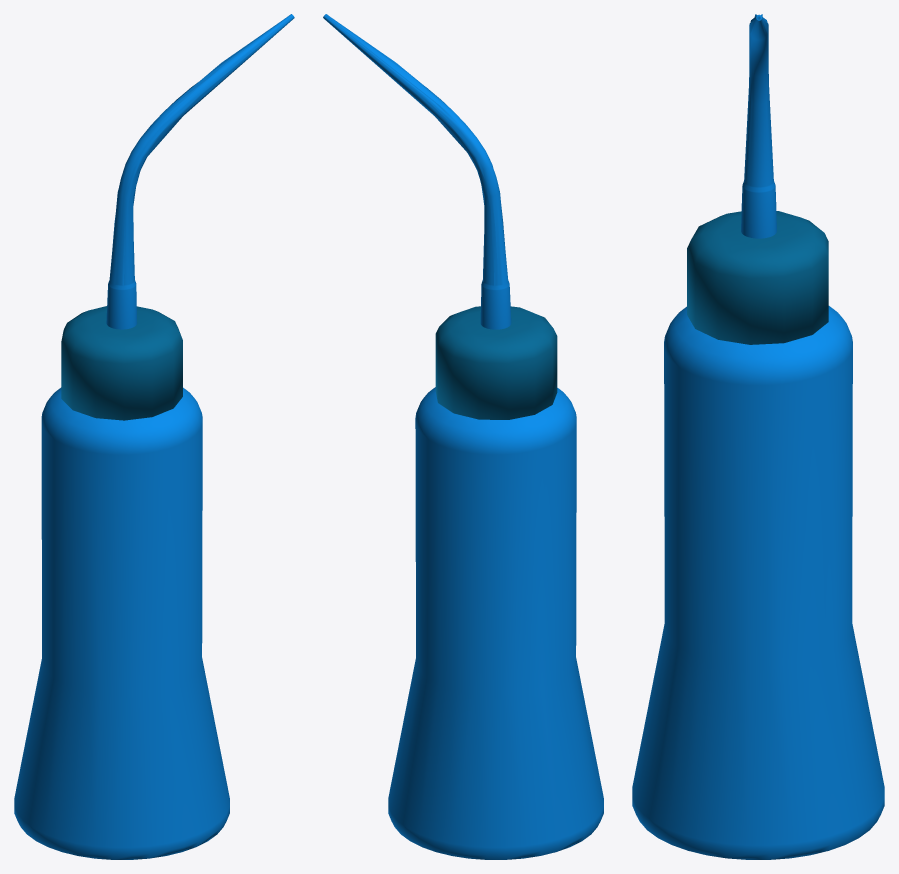
File: wash_bottle_01.fbx
3 views of the same model, side by side, from view 1: azimuth 30°, elevation 25°; view 2: azimuth 150°, elevation 25°; view 3: azimuth 270°, elevation 25° (orthographic). The views are drawn at different scales.
Parts seen in each view (by area): view 1: wash_bottle_06; view 2: wash_bottle_06; view 3: wash_bottle_06.
Part boxes in pixels (x1,y1,x2,y2): wash_bottle_06: [14, 14, 294, 859]; wash_bottle_06: [323, 14, 603, 859]; wash_bottle_06: [632, 14, 884, 859].
Size of the model in its own units: 25.59 by 69.98 by 17.99.
1 material, 1 textured.
